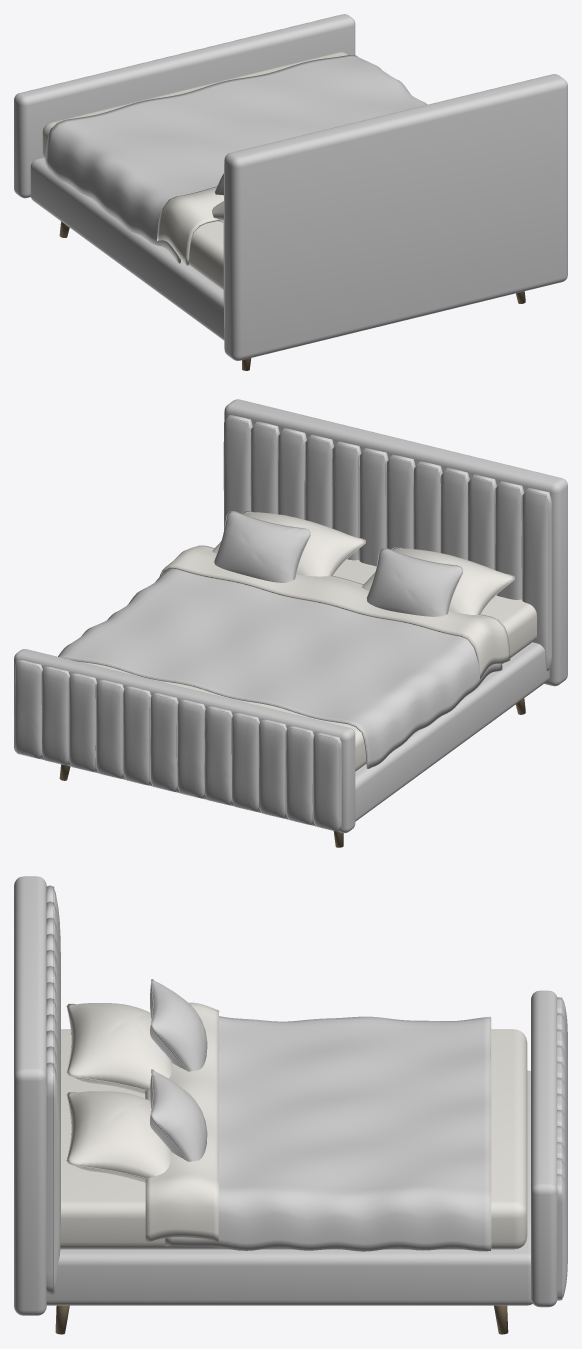
File: bed-channelled.glb
3 renders of one model, top to bottom at view 1: azimuth 30°, elevation 25°; view 2: azimuth 150°, elevation 25°; view 3: azimuth 270°, elevation 25°, orthographic. The views are drawn at different scales.
Parts seen in each view (by area): view 1: Padded headboard, Soft draped duvet, Padded footboard, Upholstered platform, Rounded mattress, Turned-back duvet edge; view 2: Soft draped duvet, Padded headboard, Upholstered platform, Turned-back duvet edge, Padded footboard, Loose accent pillow.001, Loose accent pillow, Headboard padded channel, Rounded mattress, Headboard padded channel.006, Headboard padded channel.001, Sleeping pillow.001 (+22 smaller); view 3: Soft draped duvet, Upholstered platform, Rounded mattress, Padded headboard, Turned-back duvet edge, Padded footboard, Sleeping pillow.001, Sleeping pillow, Loose accent pillow, Loose accent pillow.001, Headboard padded channel.011, Footboard padded channel.011.
Boxes of the visible parts, x1=… form: Padded headboard: x1=224, y1=74, x2=567, y2=360; Soft draped duvet: x1=45, y1=55, x2=427, y2=263; Padded footboard: x1=14, y1=14, x2=355, y2=198; Upholstered platform: x1=30, y1=157, x2=224, y2=340; Rounded mattress: x1=42, y1=52, x2=347, y2=289; Turned-back duvet edge: x1=157, y1=186, x2=223, y2=265; Soft draped duvet: x1=58, y1=569, x2=502, y2=768; Padded headboard: x1=224, y1=399, x2=567, y2=686; Upholstered platform: x1=355, y1=642, x2=549, y2=821; Turned-back duvet edge: x1=159, y1=545, x2=510, y2=679; Padded footboard: x1=14, y1=649, x2=355, y2=833; Loose accent pillow.001: x1=214, y1=511, x2=310, y2=582; Loose accent pillow: x1=367, y1=548, x2=462, y2=616; Headboard padded channel: x1=522, y1=487, x2=551, y2=670; Rounded mattress: x1=80, y1=547, x2=536, y2=771; Headboard padded channel.006: x1=359, y1=448, x2=388, y2=566; Headboard padded channel.001: x1=495, y1=481, x2=523, y2=599; Sleeping pillow.001: x1=212, y1=511, x2=365, y2=576; Soft draped duvet: x1=165, y1=1016, x2=490, y2=1251; Upholstered platform: x1=46, y1=1070, x2=532, y2=1305; Rounded mattress: x1=60, y1=1029, x2=527, y2=1249; Padded headboard: x1=14, y1=876, x2=46, y2=1315; Turned-back duvet edge: x1=145, y1=1002, x2=219, y2=1242; Padded footboard: x1=531, y1=990, x2=557, y2=1307; Sleeping pillow.001: x1=67, y1=1091, x2=171, y2=1182; Sleeping pillow: x1=67, y1=1003, x2=172, y2=1093; Loose accent pillow: x1=150, y1=979, x2=207, y2=1071; Loose accent pillow.001: x1=150, y1=1069, x2=207, y2=1161; Headboard padded channel.011: x1=46, y1=1062, x2=60, y2=1295; Footboard padded channel.011: x1=557, y1=1174, x2=567, y2=1300.
Size of the model in its own units: 1.94 by 1.27 by 2.28.
Materials: 3 (1 with a texture image).
